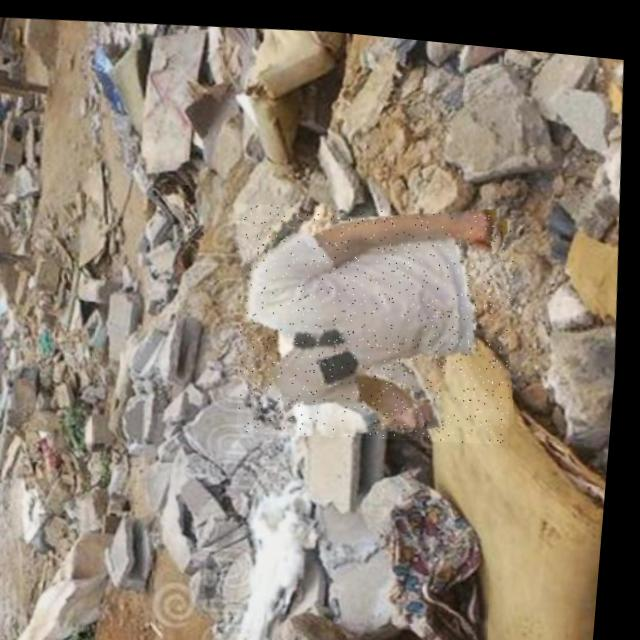Person in Rubble: (231, 184, 530, 447)
